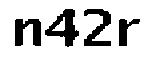2: (80, 6, 113, 49)
4: (42, 4, 79, 49)
n: (10, 16, 44, 51)
r: (117, 14, 144, 52)
